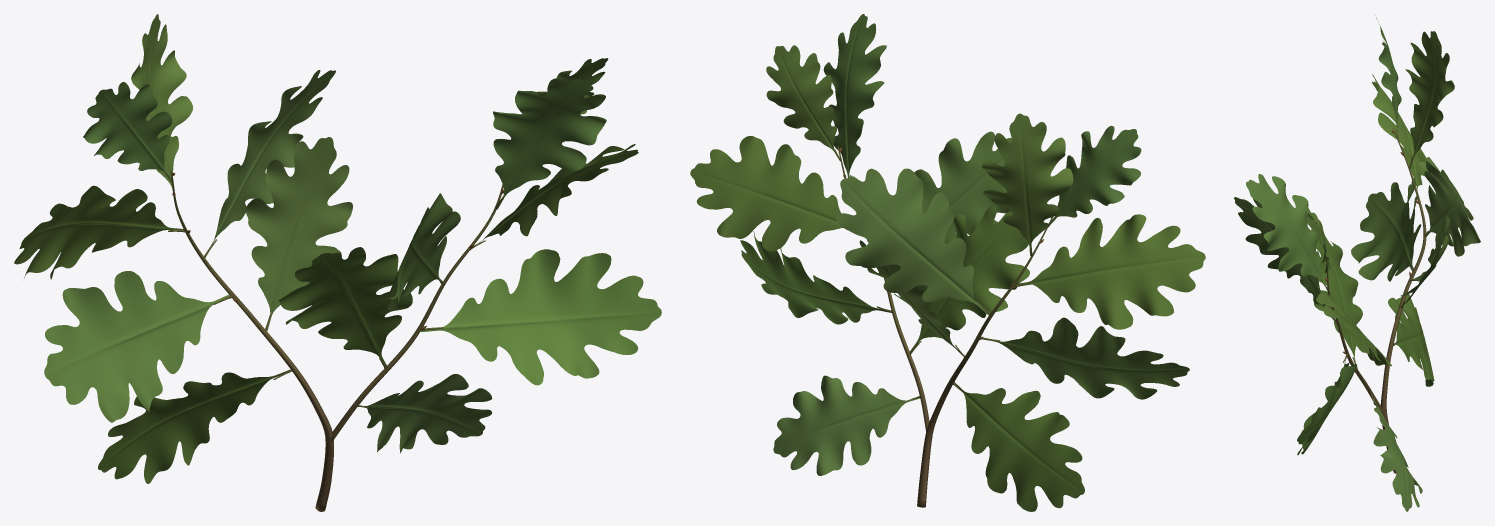
Rendered from SM_WhiteOak_Spray_Dense.fbx.
3 renders of one model, left to right at view 1: azimuth 30°, elevation 25°; view 2: azimuth 150°, elevation 25°; view 3: azimuth 270°, elevation 25°, orthographic. The views are drawn at different scales.
Parts seen in each view (by area): view 1: SM_WhiteOak_Spray_Dense; view 2: SM_WhiteOak_Spray_Dense; view 3: SM_WhiteOak_Spray_Dense.
Part boxes in pixels (x1=…): SM_WhiteOak_Spray_Dense: x1=14, y1=14, x2=661, y2=511; SM_WhiteOak_Spray_Dense: x1=690, y1=14, x2=1205, y2=511; SM_WhiteOak_Spray_Dense: x1=1234, y1=15, x2=1480, y2=511.
Size of the model in its own units: 0.3834 by 0.1767 by 0.3078.
2 materials, 1 textured.
